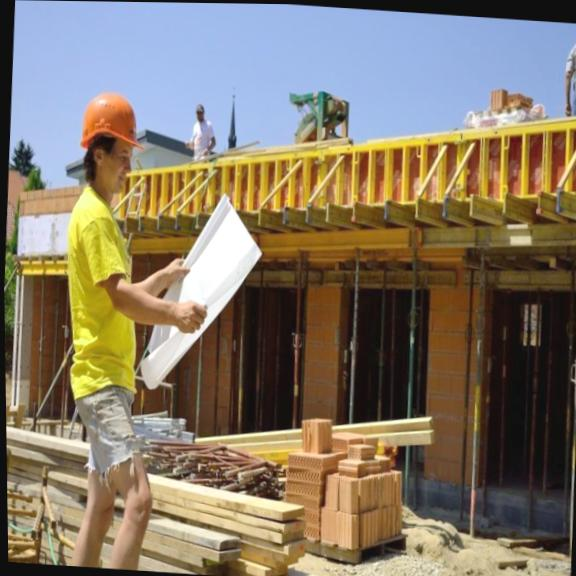no_safety_vest: (59, 184, 142, 403)
